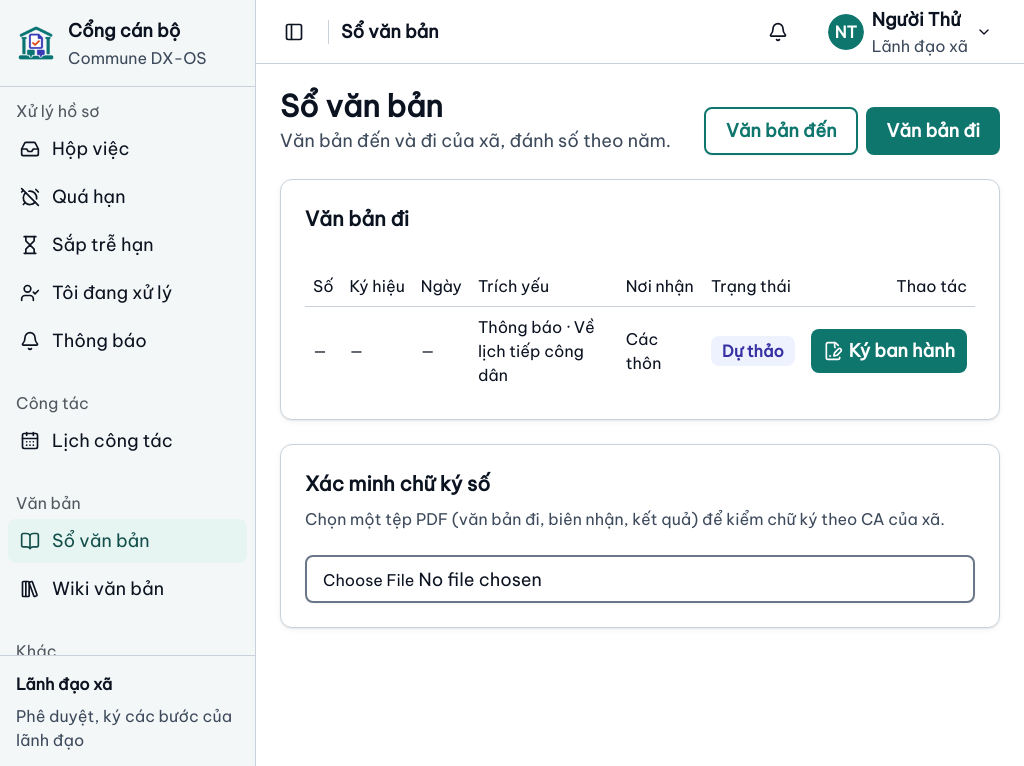
Test: sổ văn bản (#78) › lãnh đạo ký ban hành dự thảo; văn thư và cán bộ không có nút ký
Click the button named "Ký ban hành Về lịch tiếp công dân" at coordinates (889, 351), box [811,329,967,373]
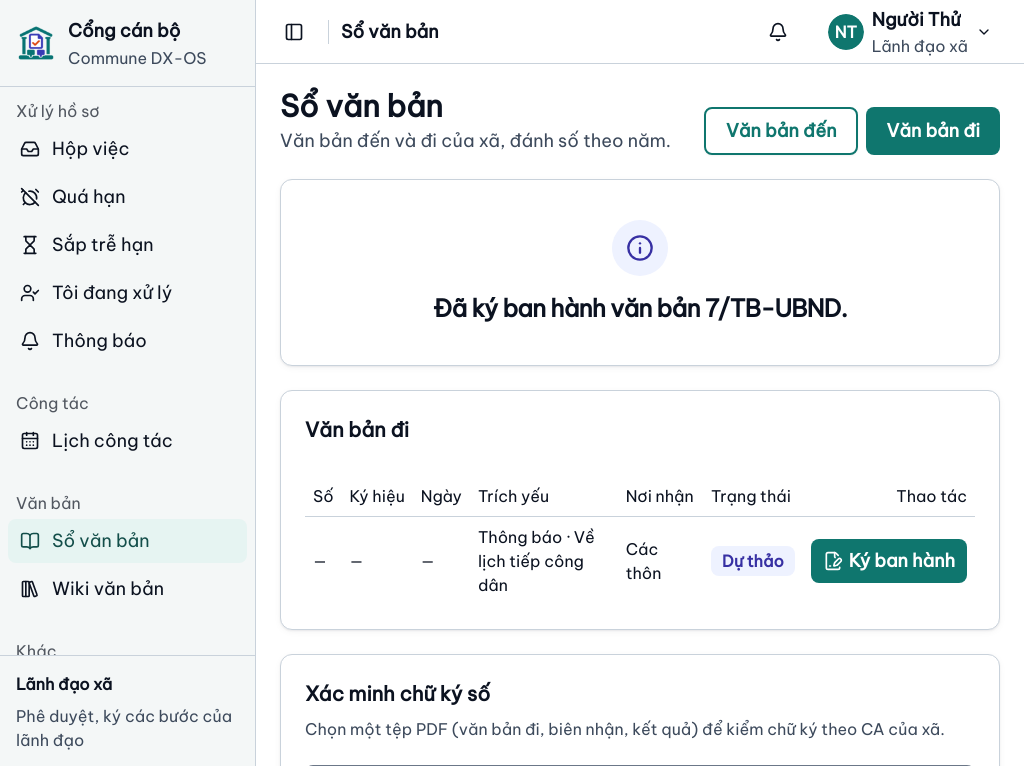
Expected: the heading "Đã ký ban hành văn bản 7/TB-UBND." is shown, [433,292,847,325]
